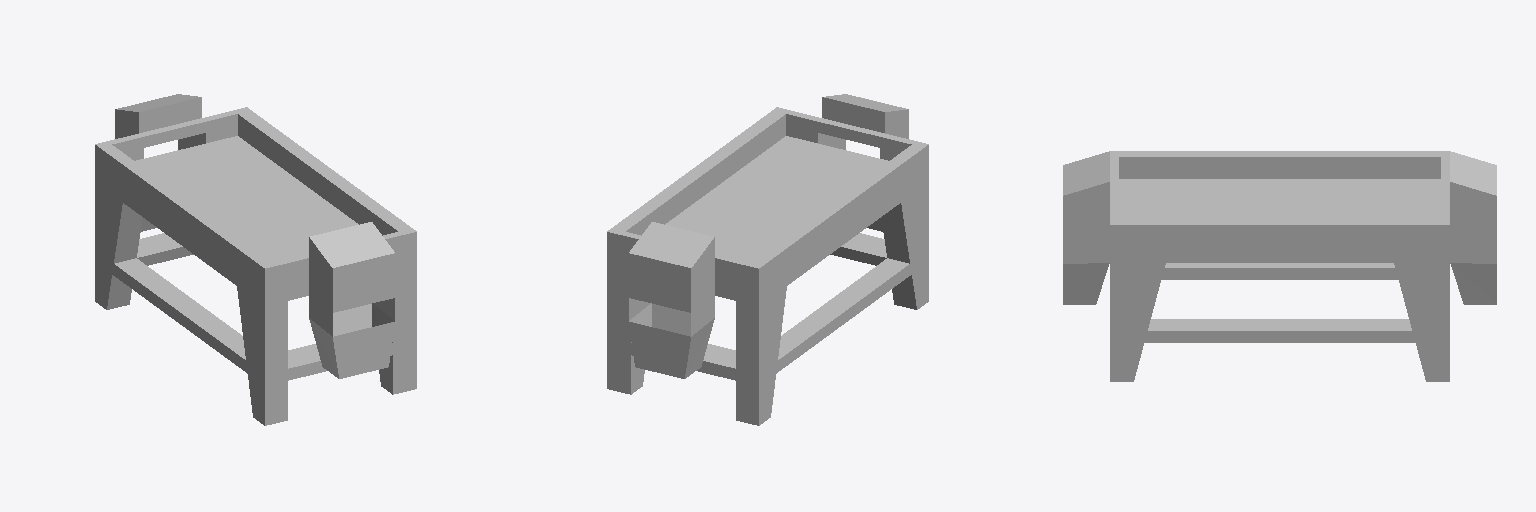
The model's file is AirHockeyTable.obj.
3 views of the same model, side by side, from view 1: azimuth 30°, elevation 25°; view 2: azimuth 150°, elevation 25°; view 3: azimuth 270°, elevation 25° (orthographic).
Parts seen in each view (by area): view 1: Cube.001; view 2: Cube.001; view 3: Cube.001.
Boxes of the visible parts, box(x1,y1,x2,y2) form: Cube.001: box(95, 94, 416, 425); Cube.001: box(607, 94, 928, 425); Cube.001: box(1063, 151, 1496, 381).
Size of the model in its own units: 2 by 2.24 by 4.95.